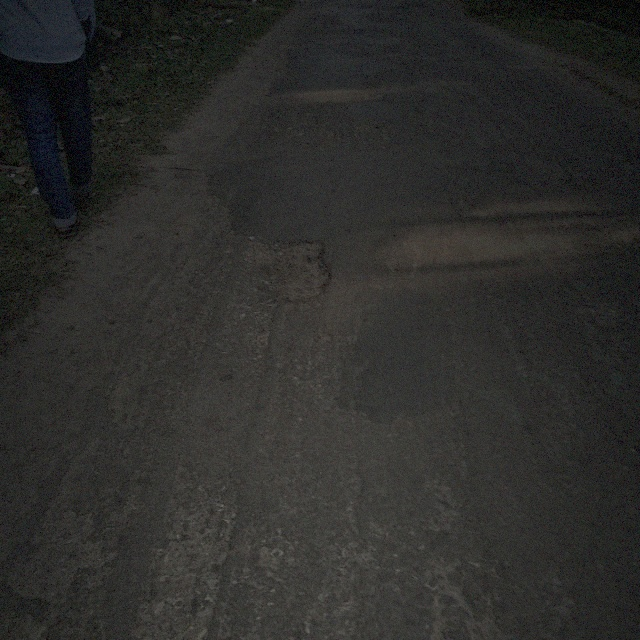pothole: (244, 233, 334, 309)
